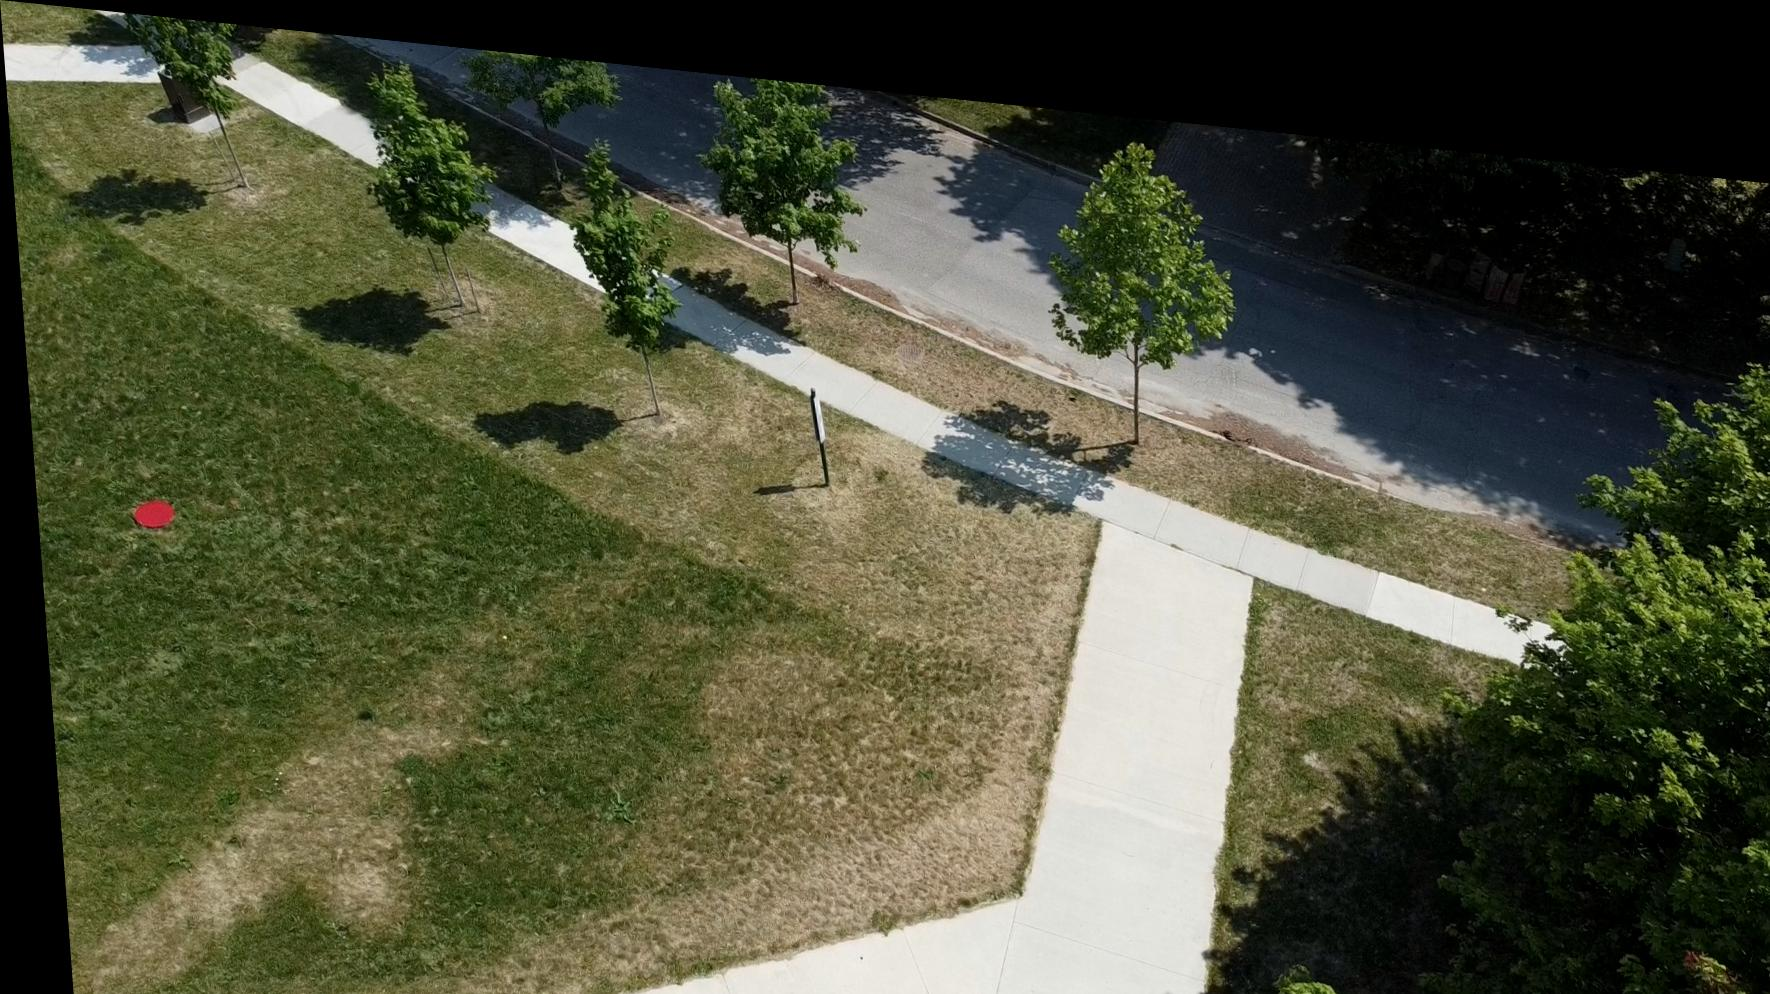Red: (124, 493, 169, 529)
